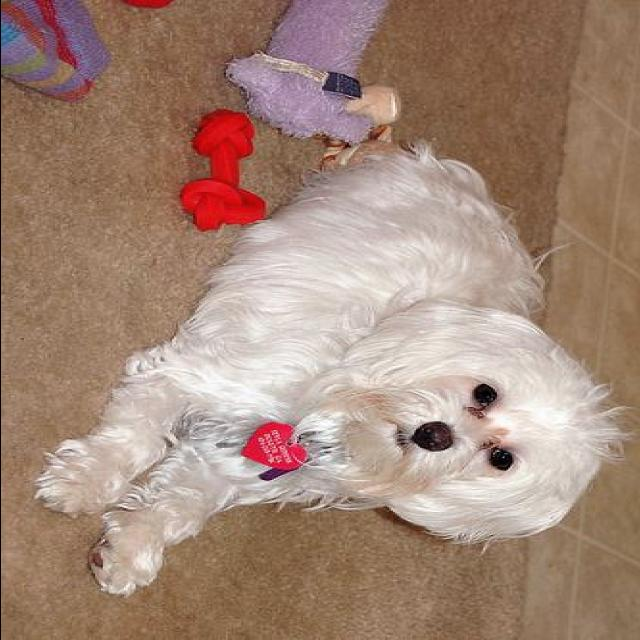maltese_dog: (37, 156, 609, 595)
